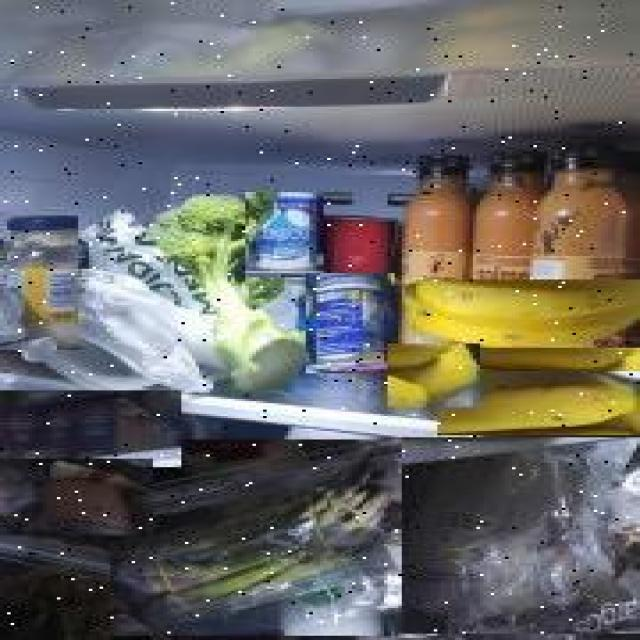asparagus: (110, 439, 438, 636)
banana: (402, 280, 640, 349), (412, 309, 640, 372), (437, 365, 640, 435), (388, 344, 480, 408)
broccoli: (148, 192, 314, 395)
cheese: (402, 438, 640, 635)
humus: (0, 391, 181, 468), (0, 459, 153, 536)
mayonaise: (0, 213, 78, 350)
yogurt: (306, 273, 394, 373), (247, 193, 325, 278)
